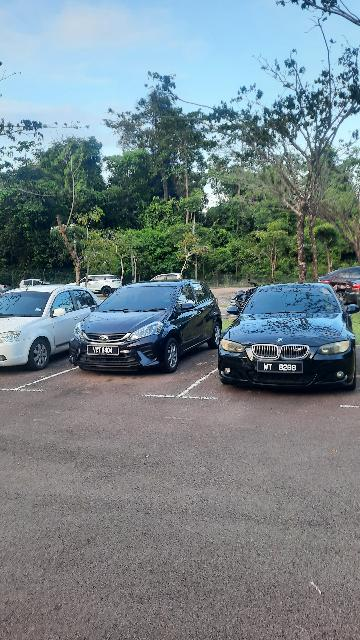License_Plate: (256, 360, 306, 376), (85, 344, 121, 358)
car: (214, 280, 360, 396), (73, 278, 221, 379), (2, 281, 105, 370)
